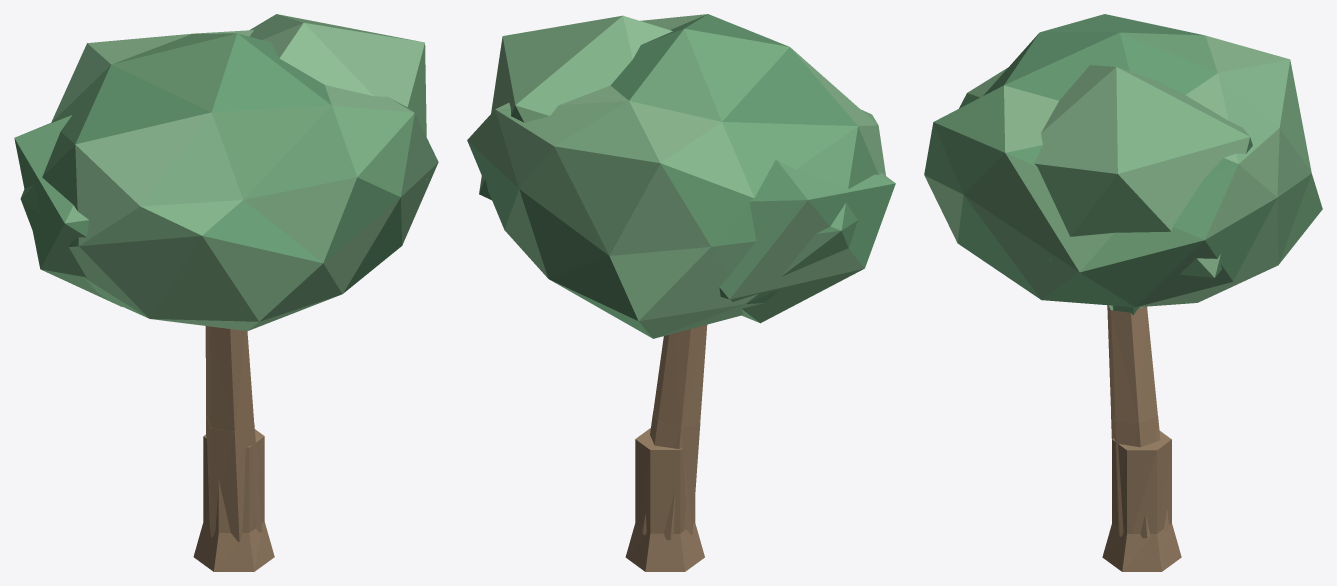
Rendered from broadleaf-tree-00.glb.
3 renders of one model, left to right at view 1: azimuth 30°, elevation 25°; view 2: azimuth 150°, elevation 25°; view 3: azimuth 270°, elevation 25°, orthographic. The views are drawn at different scales.
Parts seen in each view (by area): view 1: broadleaf_tree_00; view 2: broadleaf_tree_00; view 3: broadleaf_tree_00.
Part boxes in pixels (x1,y1,x2,y2): broadleaf_tree_00: (14, 14, 438, 571); broadleaf_tree_00: (467, 14, 895, 571); broadleaf_tree_00: (924, 14, 1322, 571).
Size of the model in its own units: 3.13 by 4.2 by 2.91.
